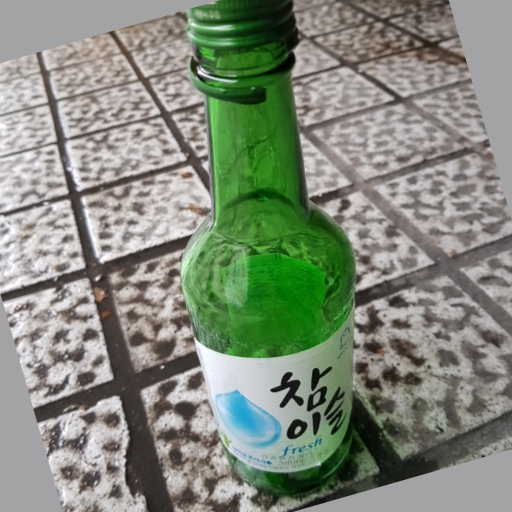Glass_0: (182, 1, 357, 493)
